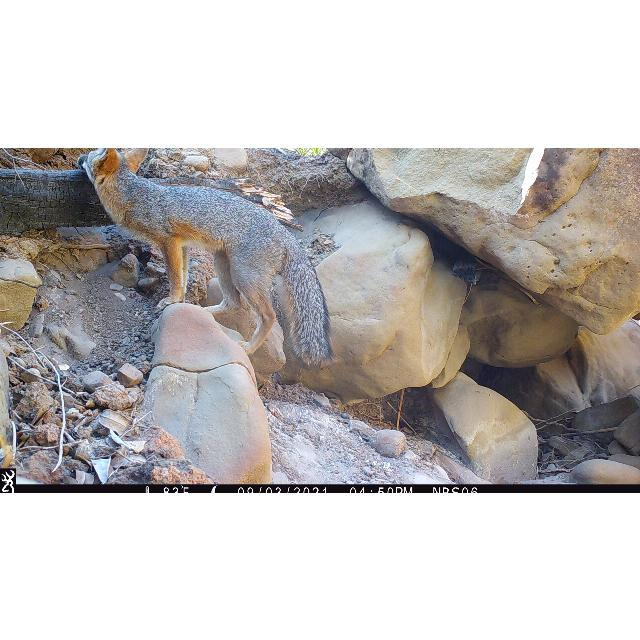animals: (76, 147, 337, 389)
